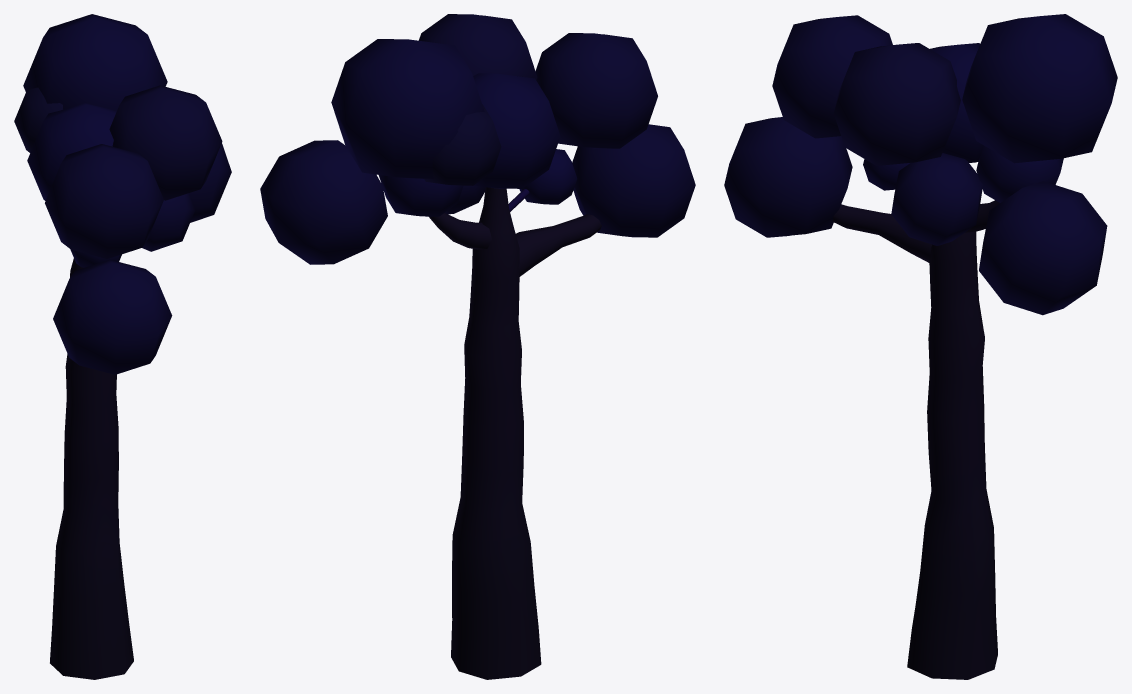
Rendered from Tall Tree.fbx.
3 views of the same model, side by side, from view 1: azimuth 30°, elevation 25°; view 2: azimuth 150°, elevation 25°; view 3: azimuth 270°, elevation 25° (orthographic). The views are drawn at different scales.
Parts seen in each view (by area): view 1: Tall Tree; view 2: Tall Tree; view 3: Tall Tree.
Boxes of the visible parts, x1=… form: Tall Tree: x1=14, y1=14, x2=231, y2=679; Tall Tree: x1=260, y1=14, x2=695, y2=679; Tall Tree: x1=724, y1=14, x2=1117, y2=679.
Bounding box in the file's own units: 1459 × 3092 × 1652.
